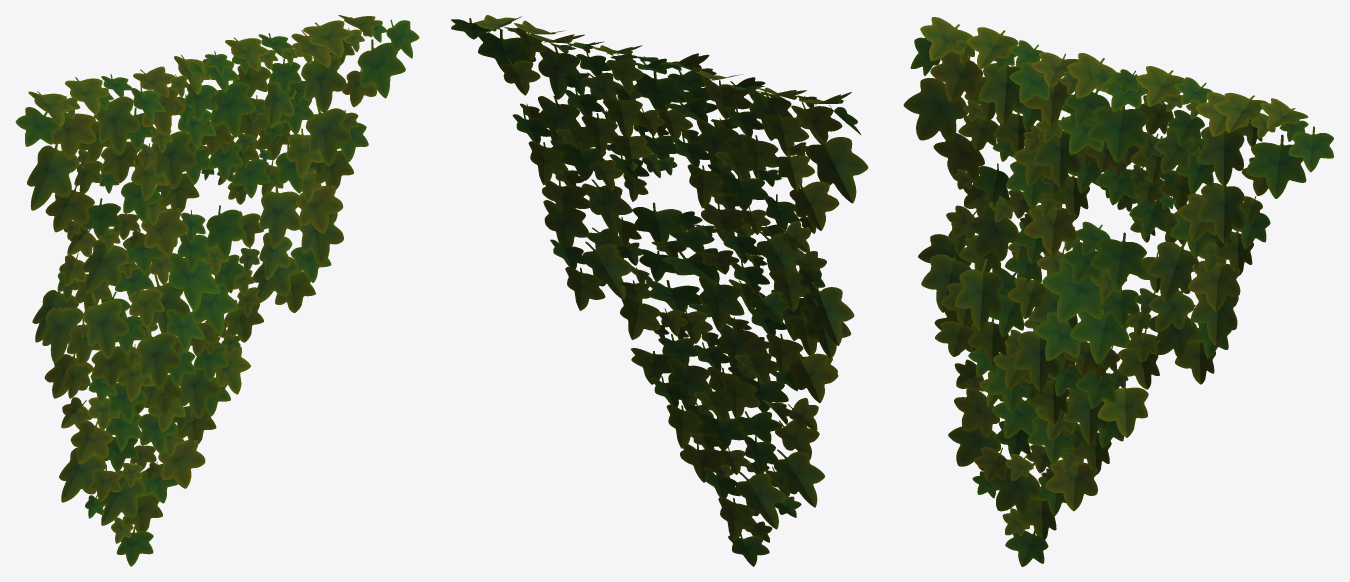
File: ivy_v_01a.fbx
3 renders of one model, left to right at view 1: azimuth 30°, elevation 25°; view 2: azimuth 150°, elevation 25°; view 3: azimuth 330°, elevation 25°, orthographic. The views are drawn at different scales.
Parts seen in each view (by area): view 1: ivy_m_01a.048; view 2: ivy_m_01a.048; view 3: ivy_m_01a.048.
Boxes of the visible parts, bbox=[...] form: ivy_m_01a.048: bbox=[15, 15, 419, 566]; ivy_m_01a.048: bbox=[451, 15, 868, 566]; ivy_m_01a.048: bbox=[903, 17, 1333, 566].
Bounding box in the file's own units: 144 × 22.84 × 169.
1 material, 1 textured.
